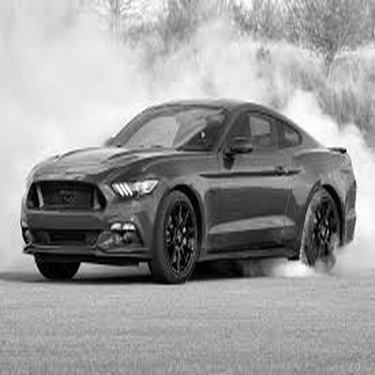car: (6, 89, 365, 292)
